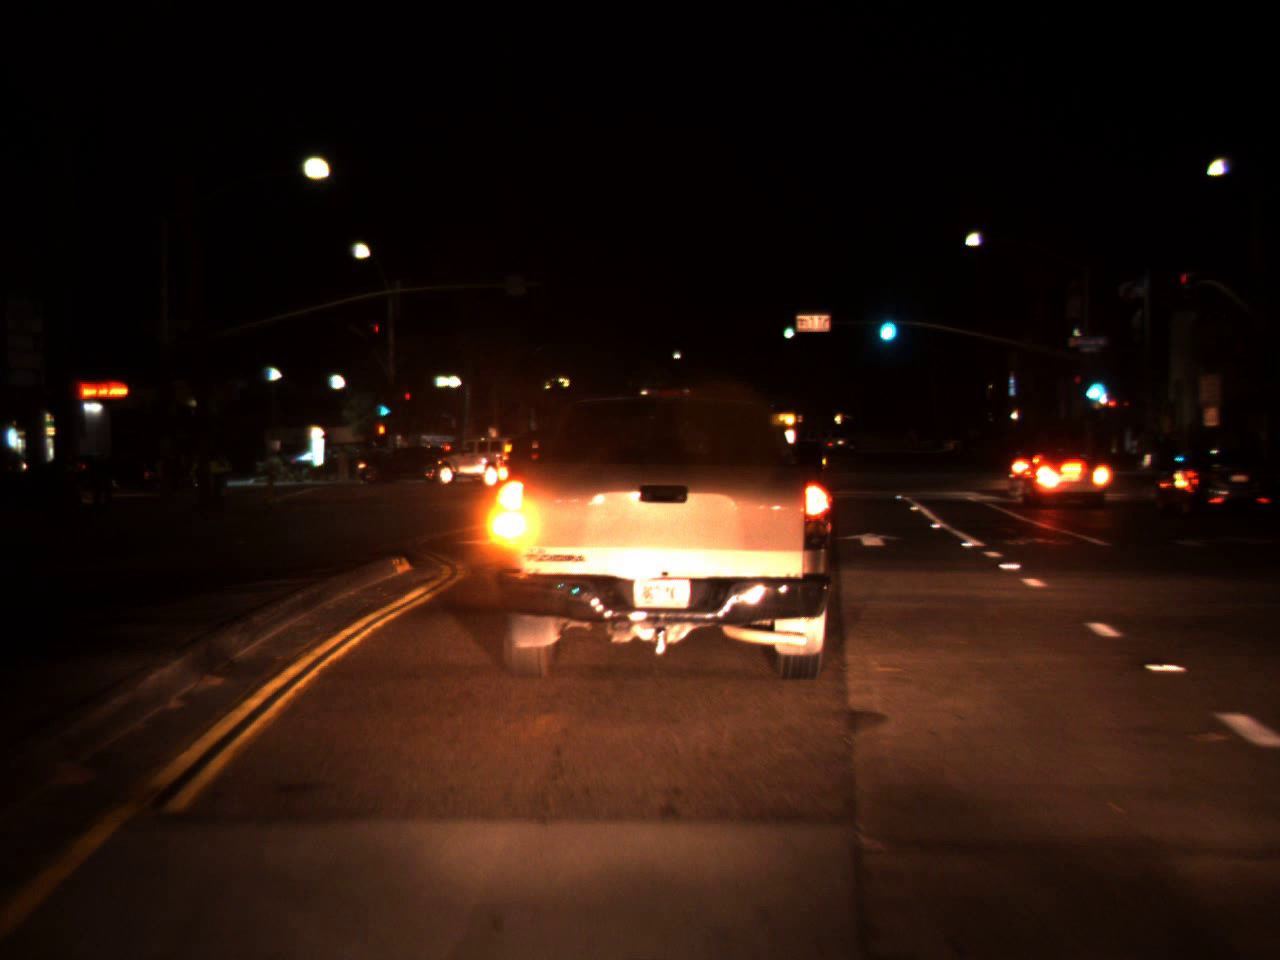go: (873, 297, 900, 348), (1080, 366, 1107, 405), (374, 388, 395, 424), (780, 315, 794, 342)
